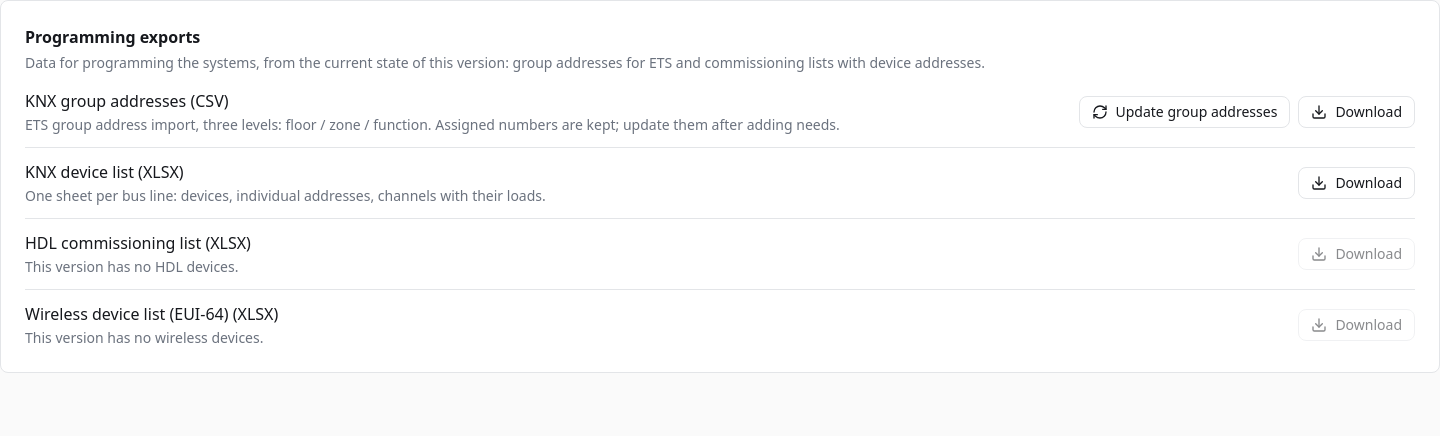
Test case: ProgrammingExportsSection › updates the group addresses and reports the result
What coordinates should you click on to do the following:
click the button "Update group addresses"
I would click on:
 (1184, 112)
Its box is [1078,96,1290,128].
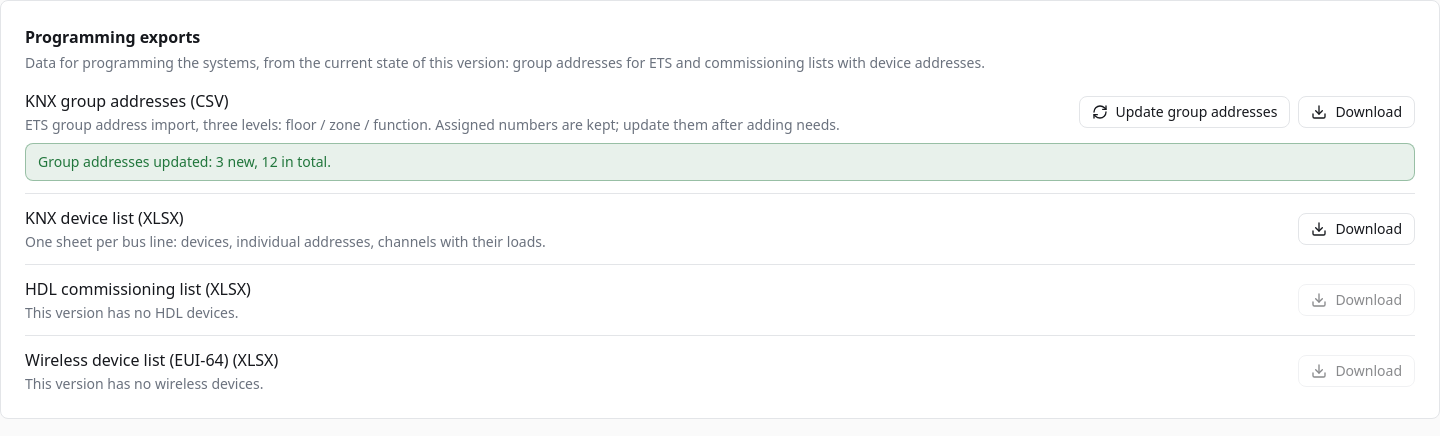
Expected: the message reads "Group addresses updated: 3 new, 12 in total.", [38,152,331,171]
